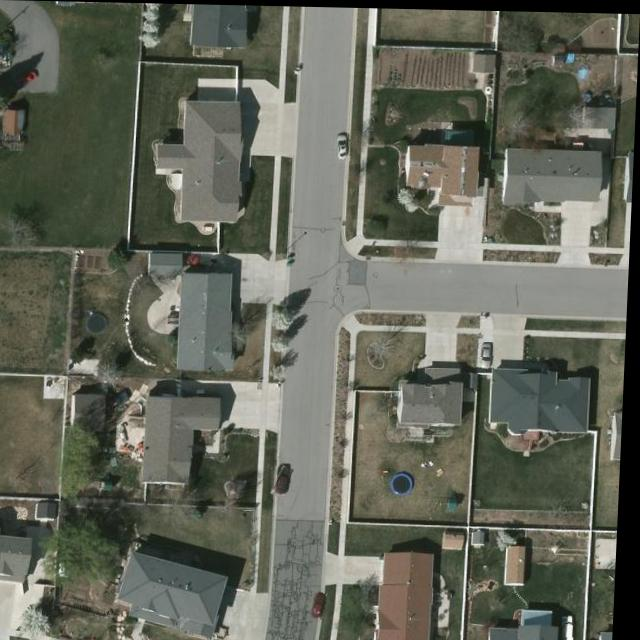vehicle: (277, 464, 295, 496), (315, 590, 334, 618), (12, 70, 39, 88), (185, 252, 215, 268), (338, 130, 353, 160), (483, 340, 499, 368), (566, 612, 582, 640)
